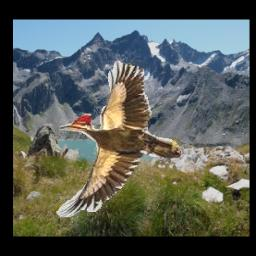Woodpecker: (55, 60, 182, 219)
